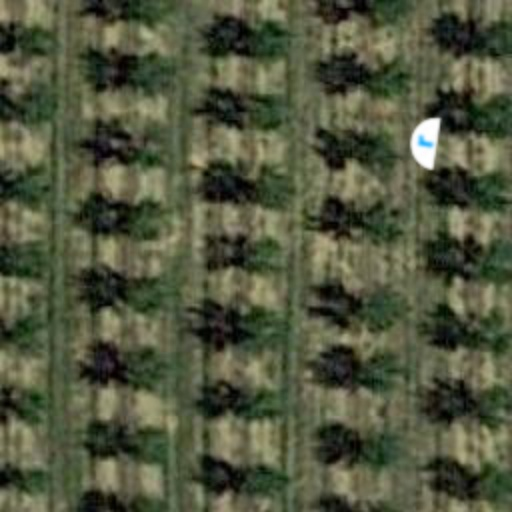semicircle: (392, 110, 456, 174)
